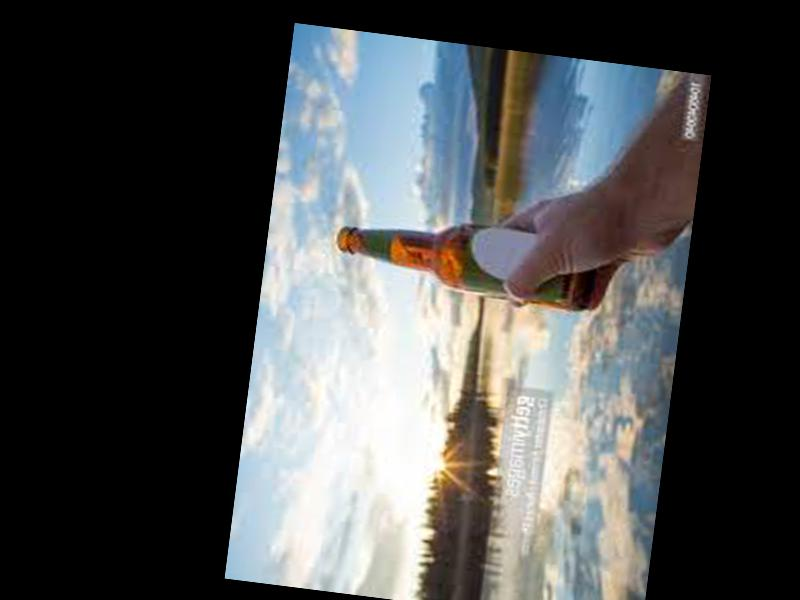Beer: (331, 205, 596, 314)
